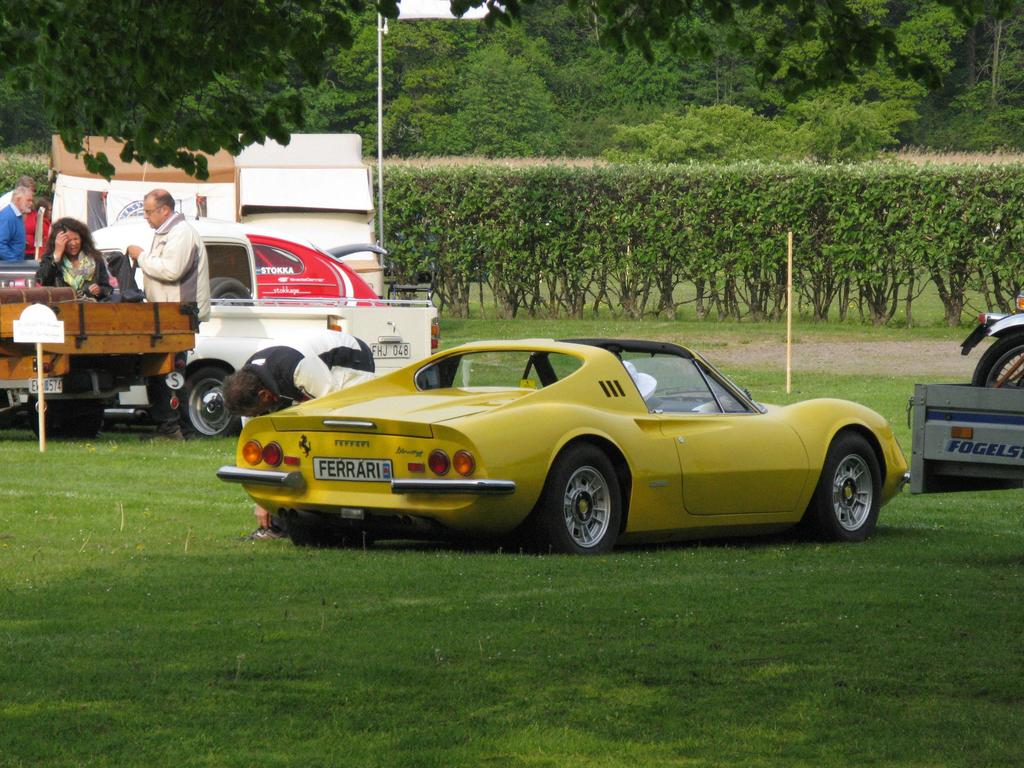Car: (211, 330, 910, 560)
